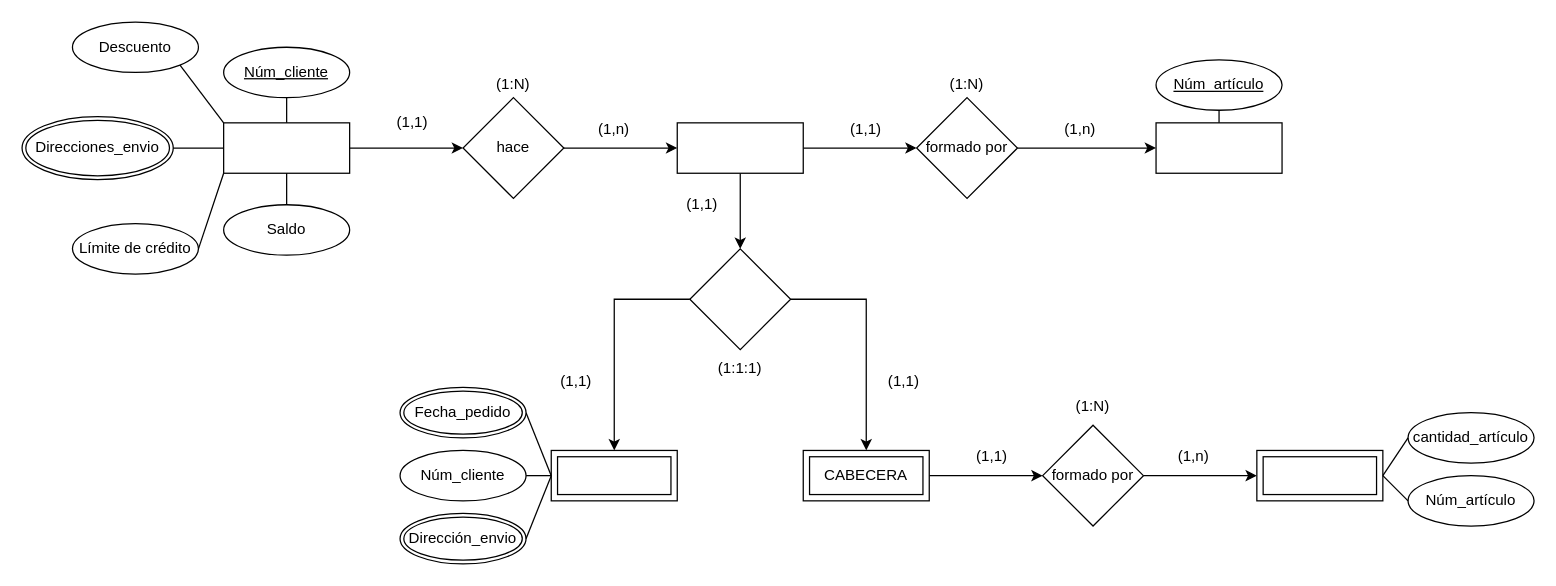
This 1556x586 diagram has some shape labels left out. The centre of each missing label's shape, as x and y in pixels:
"ARTÍCULO" goes at point 1218,147.
"CLIENTE" goes at point 286,147.
"CUERPO" goes at point 613,475.
"dividido en" goes at point 740,299.
"LÍNEA" goes at point 1319,475.
"PEDIDO" goes at point 739,147.
